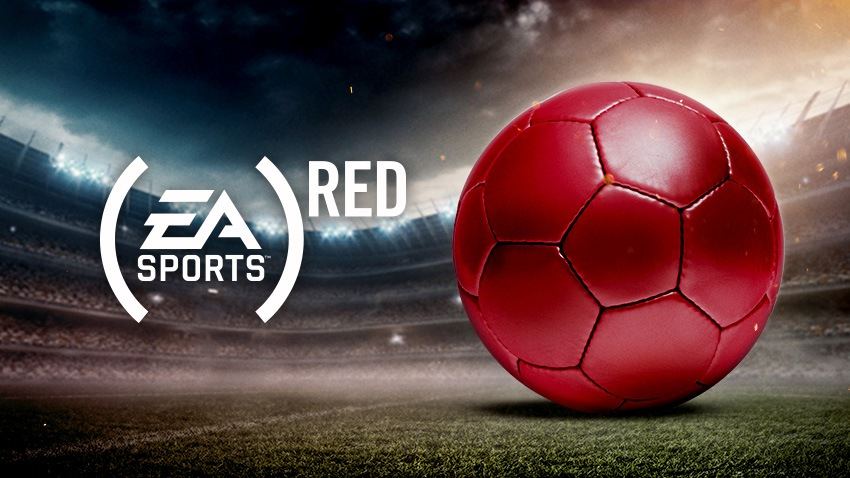red ball: (446, 77, 793, 418)
